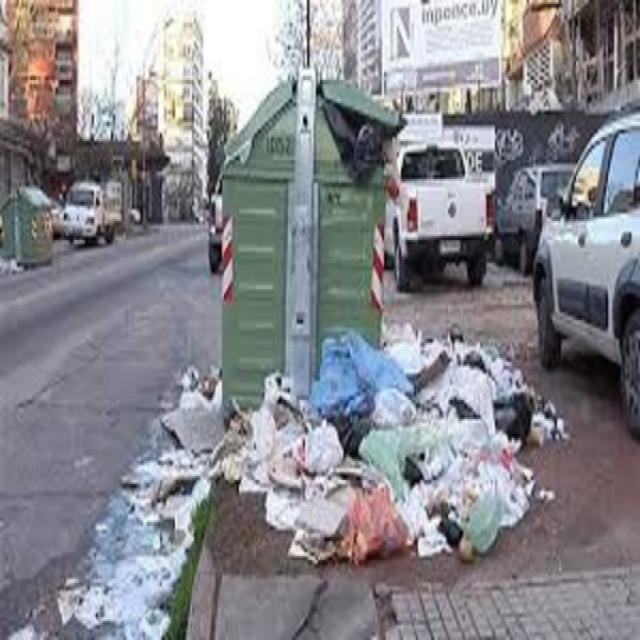garbage: (321, 339, 570, 589), (236, 402, 330, 556), (161, 362, 221, 558), (324, 99, 377, 194)
